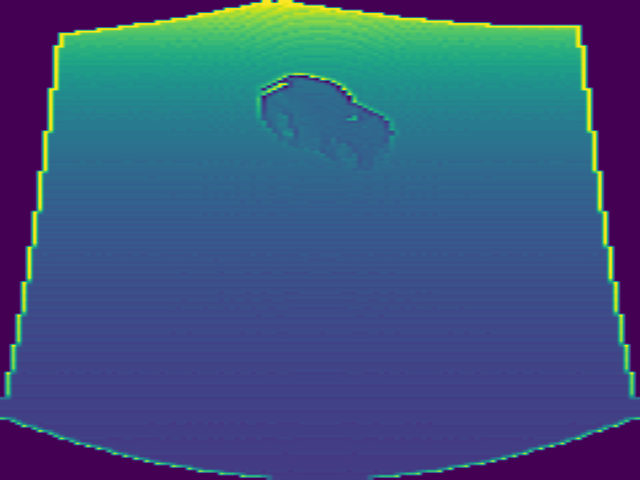car_0027: (259, 74, 393, 169)
